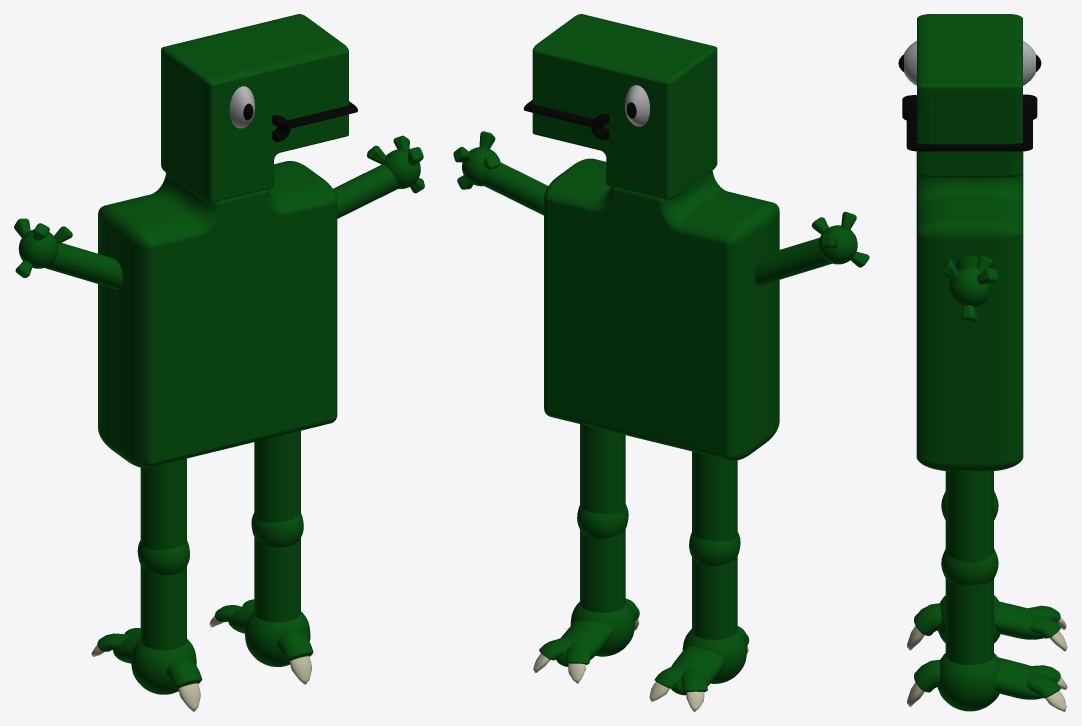
Rendered from Todd_the_Dino_Ready_for_import.fbx.
3 renders of one model, left to right at view 1: azimuth 30°, elevation 25°; view 2: azimuth 150°, elevation 25°; view 3: azimuth 270°, elevation 25°, orthographic. The views are drawn at different scales.
Visible parts, largest first — view 1: polySurface250, polySurface237, polySurface243, polySurface244, polySurface247, polySurface257, polySurface242, polySurface245, polySurface246, polySurface239, polySurface269, polySurface268 (+6 smaller); view 2: polySurface250, polySurface237, polySurface244, polySurface243, polySurface247, polySurface257, polySurface242, polySurface239, polySurface246, polySurface245, polySurface269, polySurface268 (+5 smaller); view 3: polySurface250, polySurface237, polySurface243, polySurface247, polySurface246, polySurface236, polySurface269, polySurface266, polySurface270, polySurface253, polySurface235, polySurface260 (+6 smaller).
Boxes of the visible parts, <box> form: polySurface250: <box>98,161,337,468</box>; polySurface237: <box>161,14,348,202</box>; polySurface243: <box>254,430,300,522</box>; polySurface244: <box>140,458,186,550</box>; polySurface247: <box>254,537,300,622</box>; polySurface257: <box>140,565,186,650</box>; polySurface242: <box>45,243,122,289</box>; polySurface245: <box>131,639,196,694</box>; polySurface246: <box>244,611,310,666</box>; polySurface239: <box>333,164,398,218</box>; polySurface269: <box>251,513,303,547</box>; polySurface268: <box>137,540,189,575</box>; polySurface250: <box>544,158,779,460</box>; polySurface237: <box>532,14,717,199</box>; polySurface244: <box>692,451,737,541</box>; polySurface243: <box>580,424,625,514</box>; polySurface247: <box>580,529,625,612</box>; polySurface257: <box>692,556,737,640</box>; polySurface242: <box>755,237,831,285</box>; polySurface239: <box>483,162,547,215</box>; polySurface246: <box>570,601,635,656</box>; polySurface245: <box>682,629,746,683</box>; polySurface269: <box>577,504,628,538</box>; polySurface268: <box>689,532,740,566</box>; polySurface250: <box>916,151,1023,471</box>; polySurface237: <box>916,14,1022,177</box>; polySurface243: <box>945,471,993,562</box>; polySurface247: <box>945,579,993,665</box>; polySurface246: <box>937,653,1000,711</box>; polySurface236: <box>906,110,1032,151</box>; polySurface269: <box>941,549,998,584</box>; polySurface266: <box>995,657,1041,699</box>; polySurface270: <box>994,601,1043,639</box>; polySurface253: <box>949,266,990,307</box>; polySurface235: <box>904,41,1035,85</box>; polySurface260: <box>914,603,941,635</box>.
Bounding box in the file's own units: 225 × 325 × 76.94.
